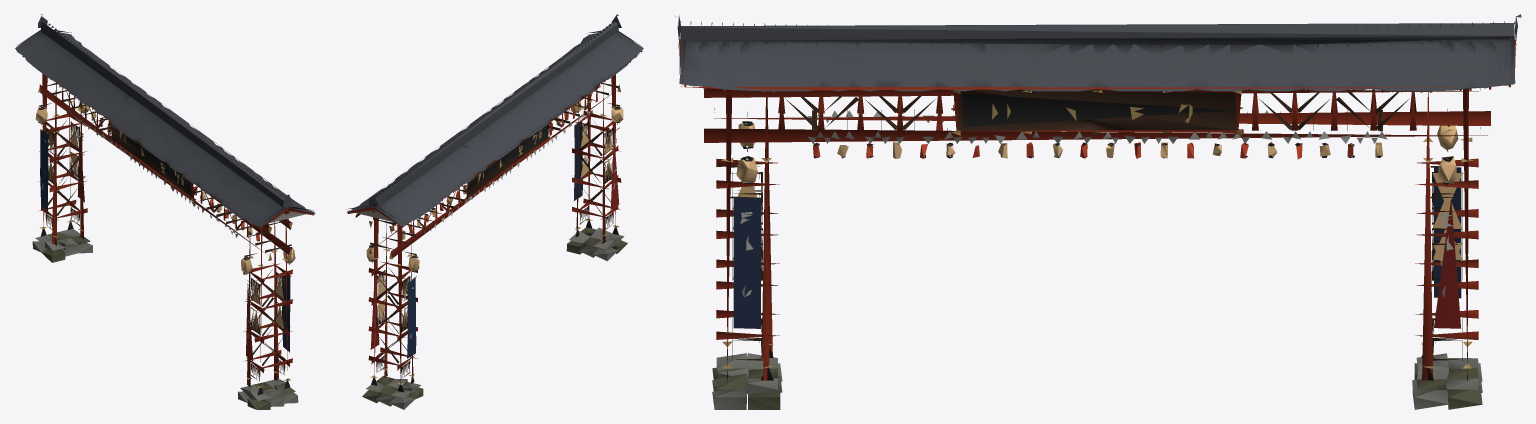
The model's file is SM_StartArch_Japan.glb.
3 renders of one model, left to right at view 1: azimuth 30°, elevation 25°; view 2: azimuth 150°, elevation 25°; view 3: azimuth 270°, elevation 25°, orthographic. The views are drawn at different scales.
Parts seen in each view (by area): view 1: SM_StartArch_Japan; view 2: SM_StartArch_Japan; view 3: SM_StartArch_Japan.
Boxes of the visible parts, left/top/right/bottom form: SM_StartArch_Japan: left=15, top=14, right=315, bottom=409; SM_StartArch_Japan: left=347, top=14, right=643, bottom=409; SM_StartArch_Japan: left=675, top=14, right=1521, bottom=409.
Size of the model in its own units: 3.54 by 12.76 by 25.92.
